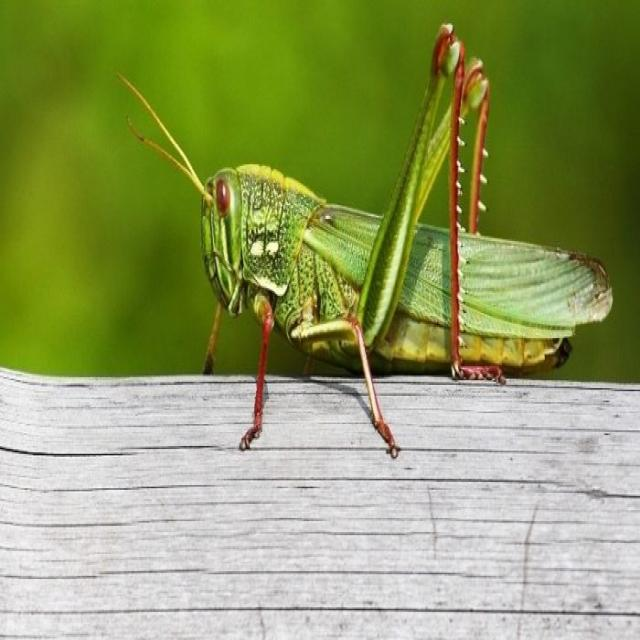ZhaMeng: (187, 38, 621, 404)
